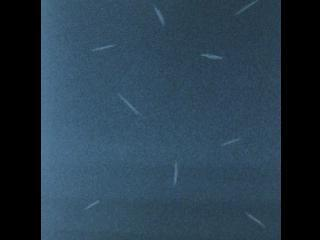scratch: (114, 90, 144, 119), (242, 208, 270, 231), (149, 2, 171, 30), (230, 0, 261, 17), (89, 39, 118, 56), (168, 158, 183, 189), (218, 134, 242, 151), (197, 49, 224, 64), (79, 197, 104, 213)
